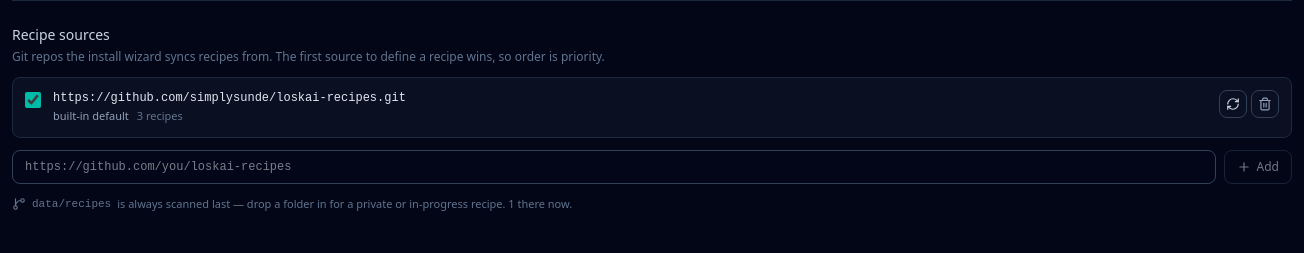
a rejected list surfaces the backend's reason
The width and height of the screenshot is (1304, 253).
Expected: the text "https://github.com/simplysunde/loskai-recipes.git" is shown, x1=53 y1=91 x2=406 y2=105
Type "nope" into the field named "Recipe source URL" at {"x": 614, "y": 166}, box x1=12 y1=150 x2=1216 y2=184
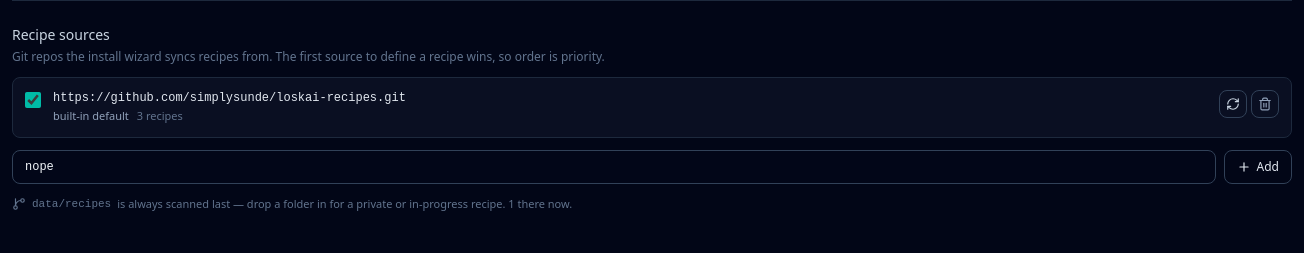
Click the button "Add" at {"x": 1258, "y": 166}, box x1=1224 y1=150 x2=1292 y2=184
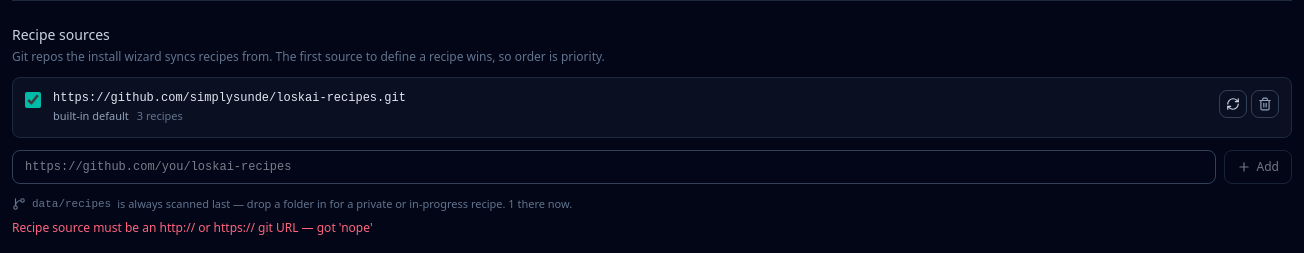
Now the text "must be an http:// or https:// git URL" is shown, box x1=12 y1=219 x2=373 y2=236
